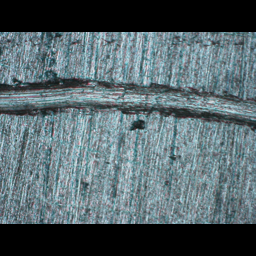d: (0, 76, 255, 133)
